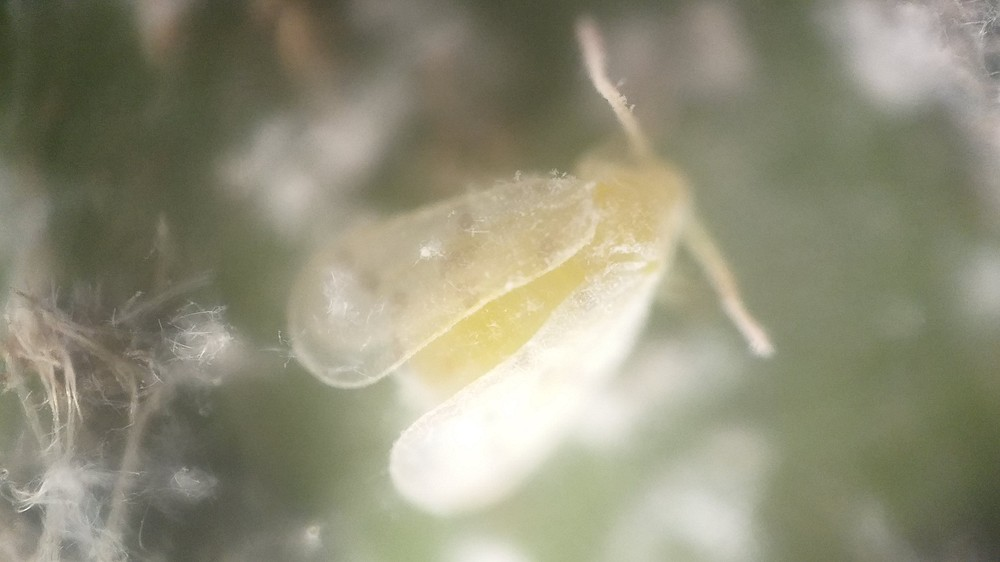Mosca Blanca: (283, 20, 797, 529)
